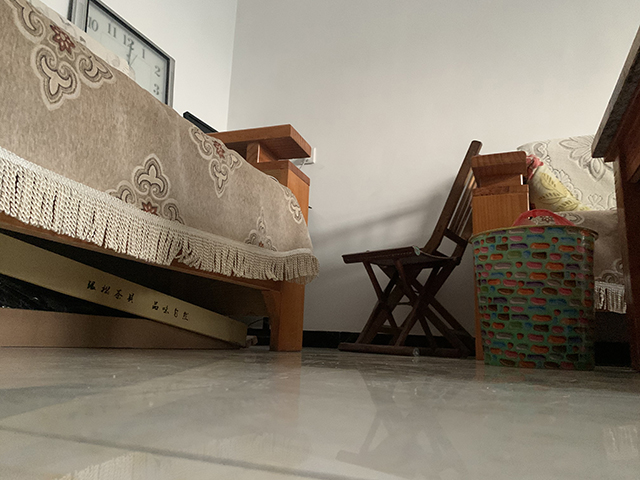sofa: (1, 1, 318, 353), (470, 133, 628, 366)
stool: (337, 140, 476, 359)
trashcan: (469, 223, 601, 373)
